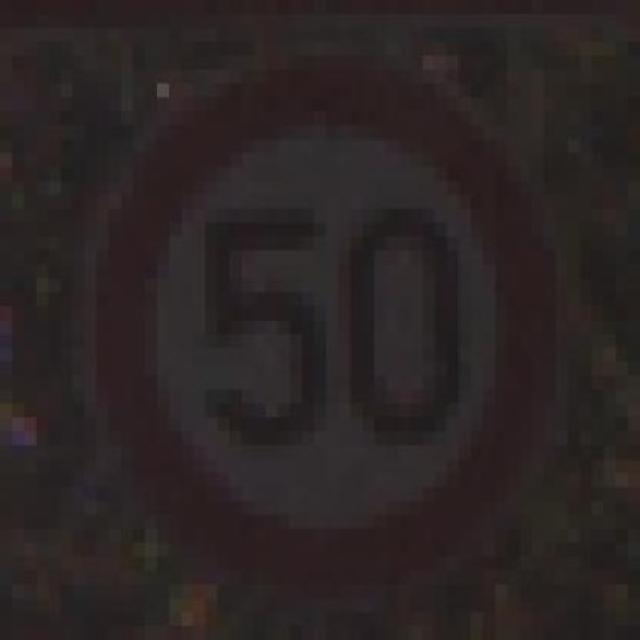Speed limit 50: (95, 58, 564, 550)
